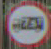Heavy Vehicles: (4, 0, 50, 47)
